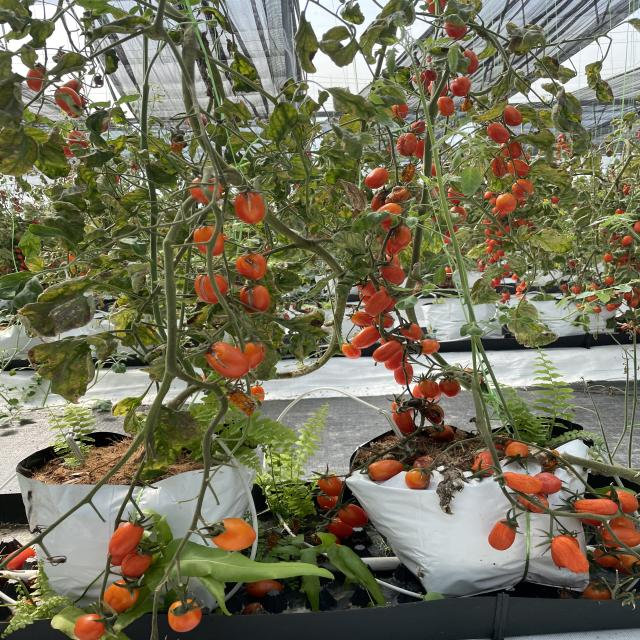Soilbag: (33, 423, 263, 617), (360, 434, 609, 594)
plant: (56, 126, 289, 421)
